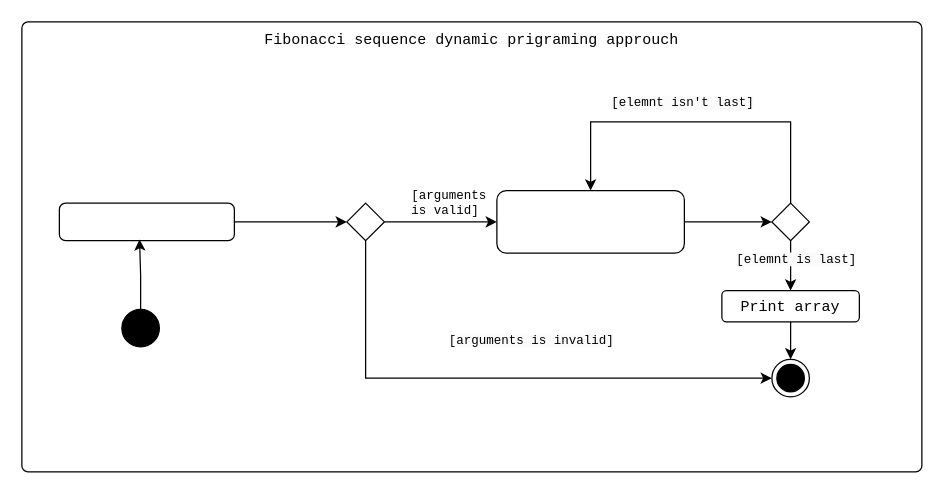
Image size: 944x494. Some labels were removed from this diagram. The centre of each missing label's shape, as x and y in pixels:
"Calculate next elemnt and save into array" belongs at point 590,221.
"Method is called" belongs at point 146,221.
